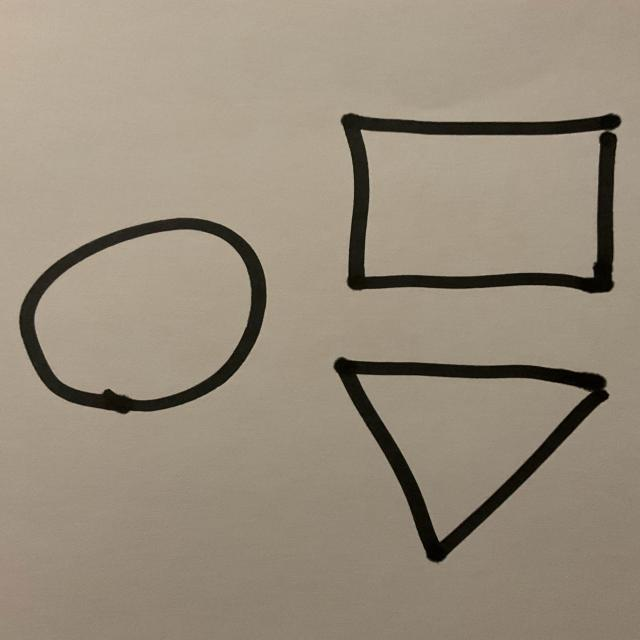Dreieck: (334, 359, 611, 566)
Kreis: (19, 218, 267, 417)
Quadrat: (340, 113, 623, 295)
